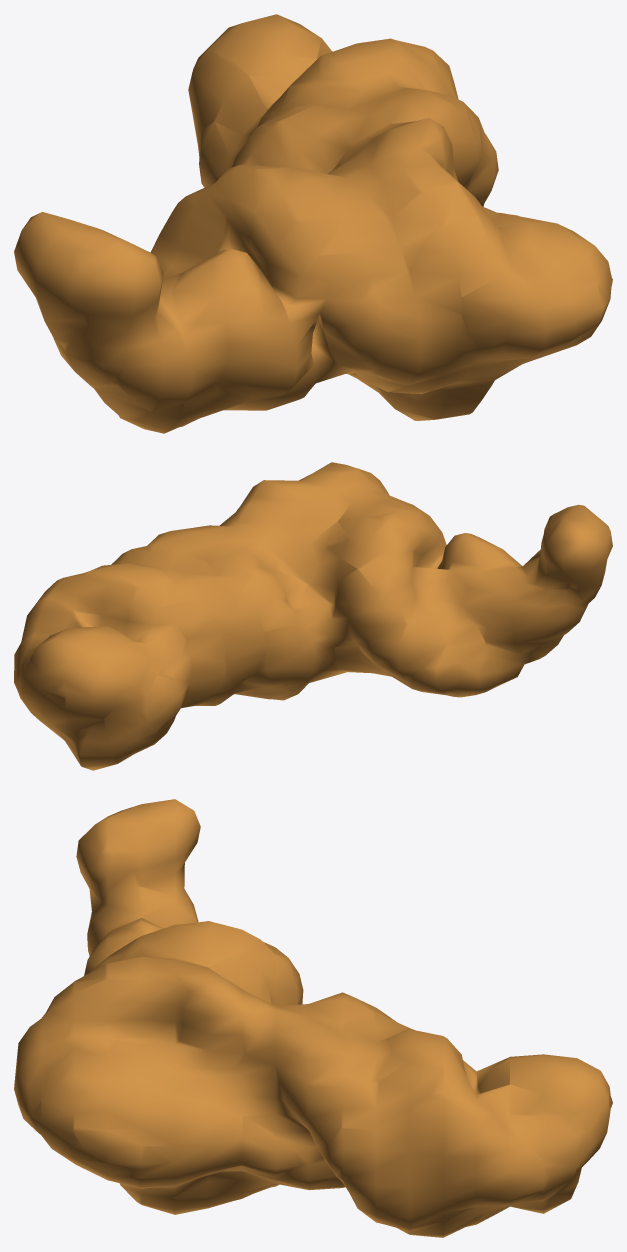
Rendered from onemer1TTT_rna.dae.
3 views of the same model, one above another, from view 1: azimuth 30°, elevation 25°; view 2: azimuth 150°, elevation 25°; view 3: azimuth 270°, elevation 25° (orthographic). The views are drawn at different scales.
Visible parts, largest first — view 1: CoarseMS_1tttBioSimp_Selection0; view 2: CoarseMS_1tttBioSimp_Selection0; view 3: CoarseMS_1tttBioSimp_Selection0.
Part boxes in pixels (x1,y1,x2,y2): CoarseMS_1tttBioSimp_Selection0: [14, 14, 612, 433]; CoarseMS_1tttBioSimp_Selection0: [14, 462, 612, 770]; CoarseMS_1tttBioSimp_Selection0: [14, 799, 612, 1237].
Bounding box in the file's own units: 72.7 × 34.54 × 74.71.
